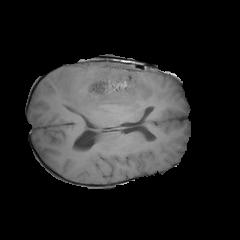glioma: (54, 66, 167, 128)
